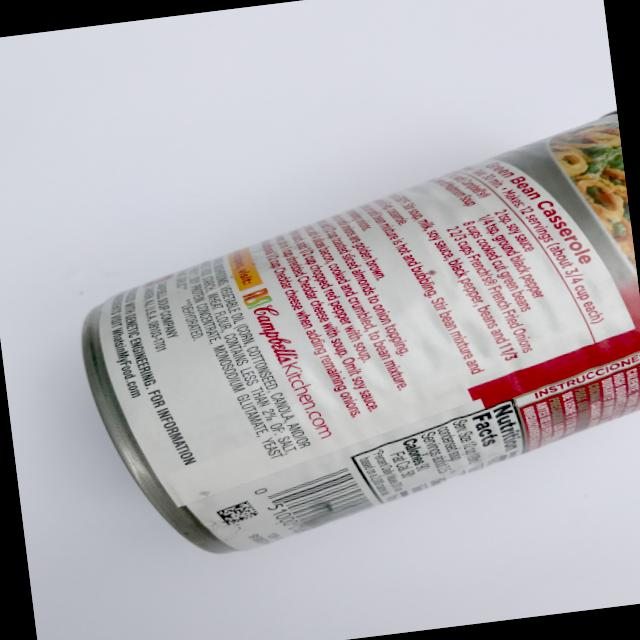Metal: (43, 73, 640, 592)
